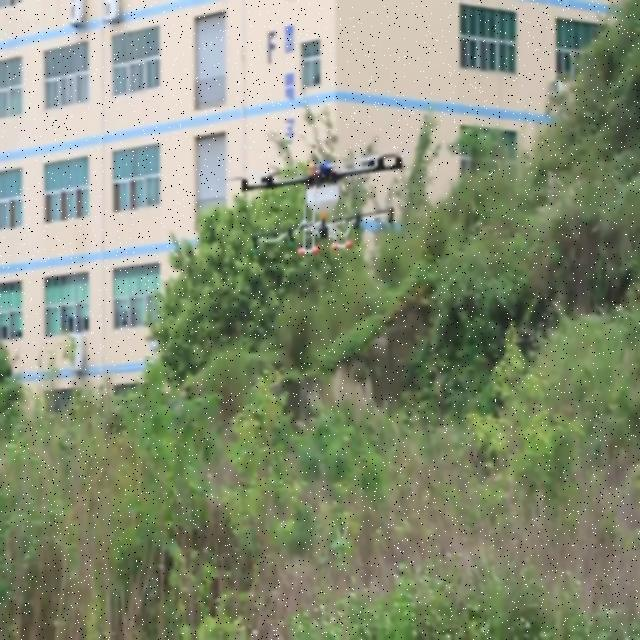UAV: (241, 154, 403, 256)
